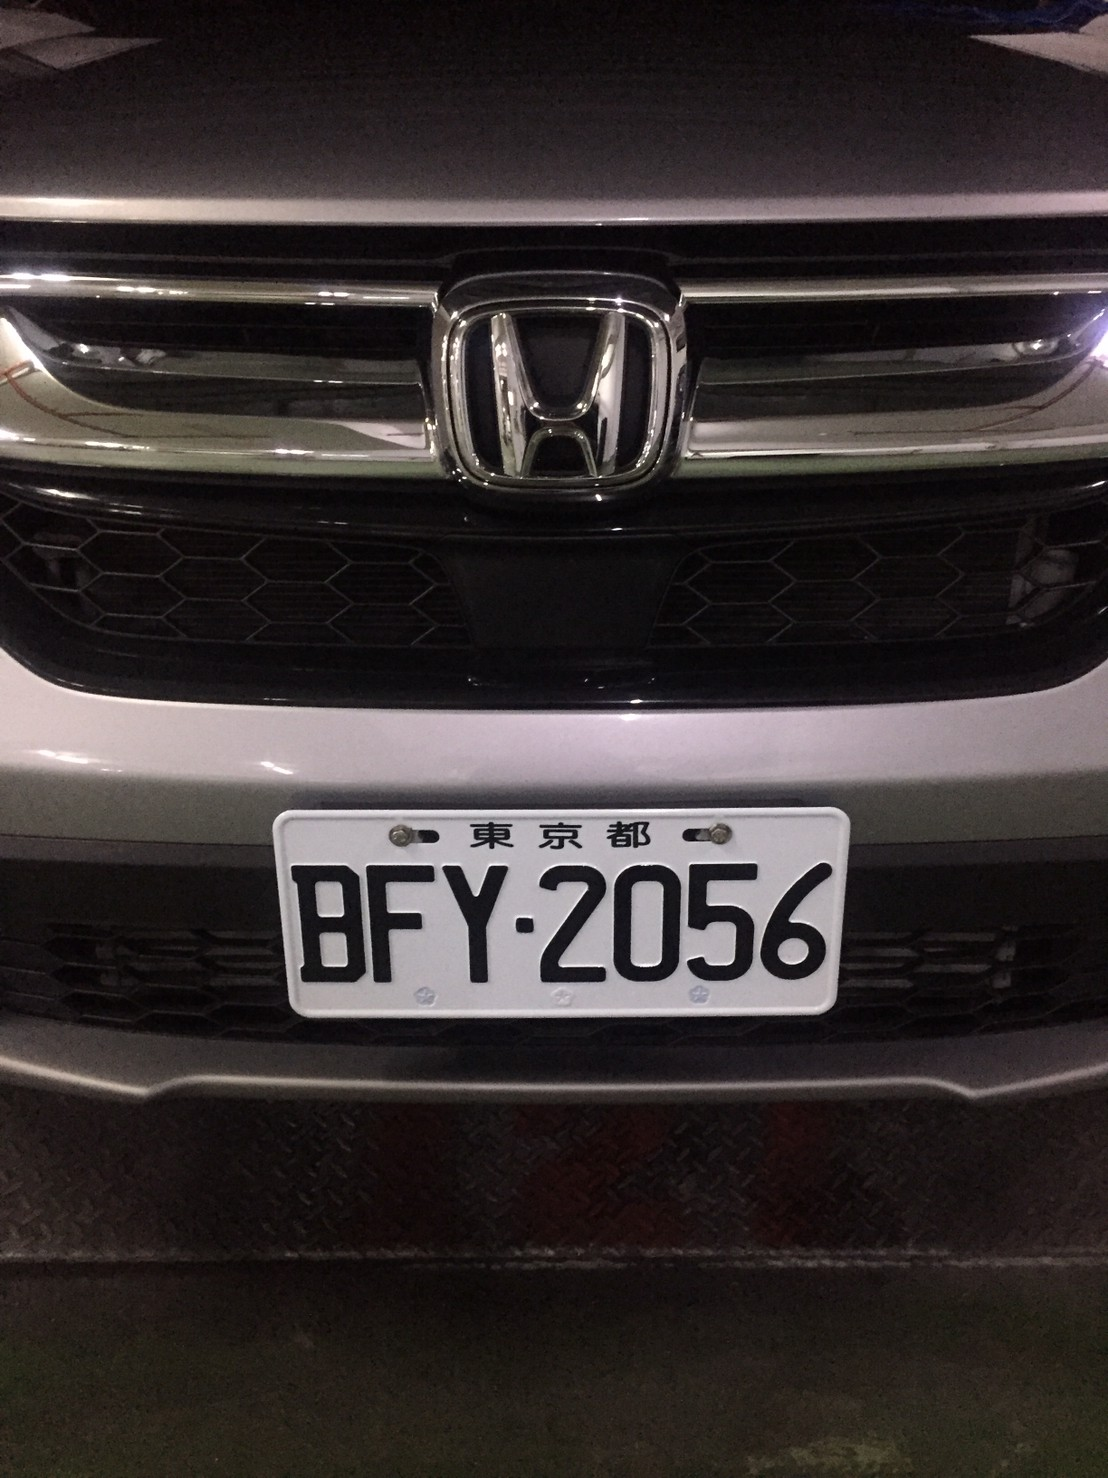LP: (270, 801, 841, 1015)
